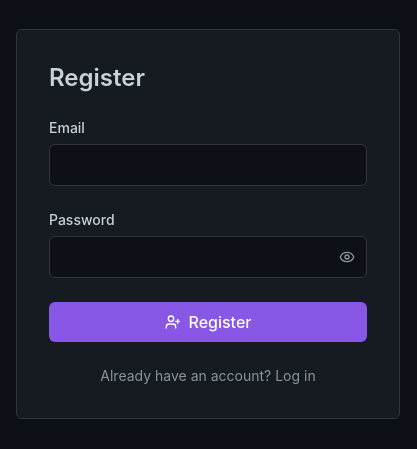
Test: RegisterView › rejects a password below the minimum length
This screenshot has width=417, height=449.
Type "a@example.com" into the field with id "register-email" at (208, 165), box [49,144,367,186]
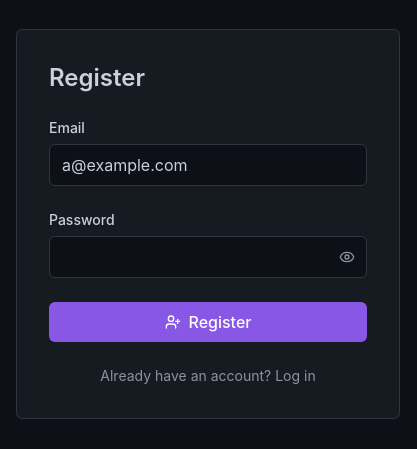
Type "short" into the password field with id "register-password" at (208, 257), box [49,236,367,278]
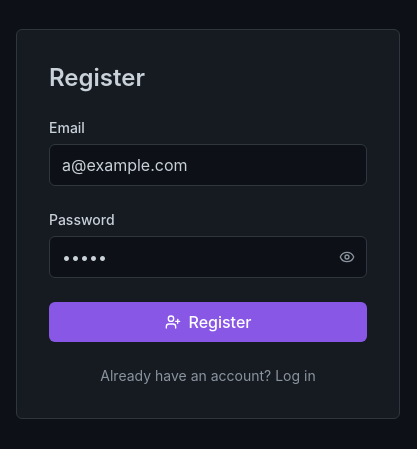
Submit the form
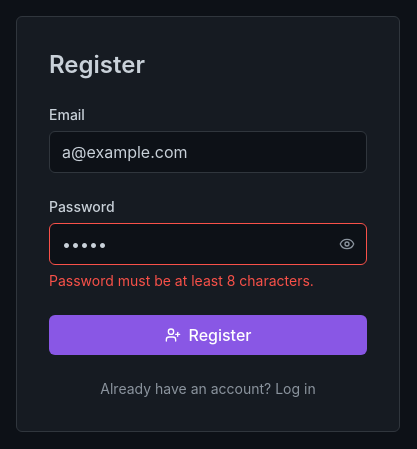
Expected: the text "Password must be at least 8 characters." is shown, [49,272,314,289]
